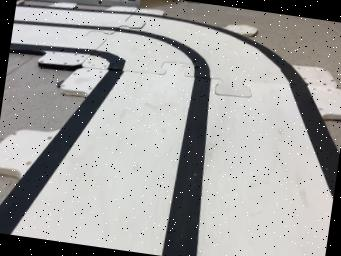street: (0, 4, 339, 256), (0, 4, 339, 256), (0, 4, 339, 256)
